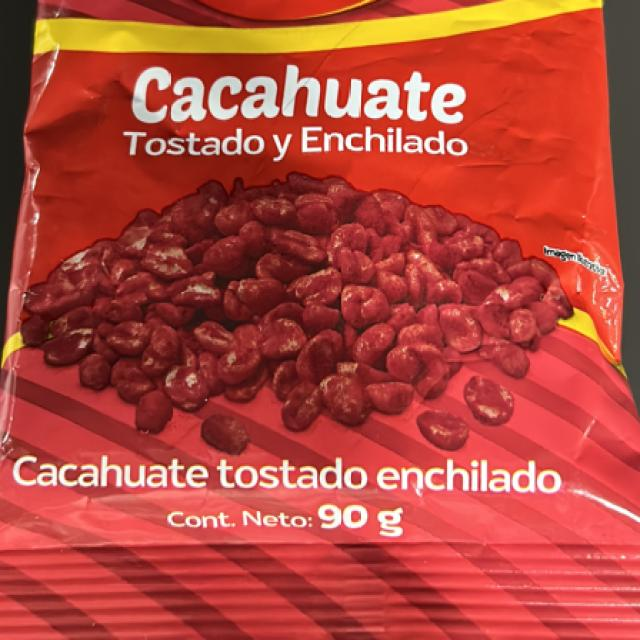bitzEnchilado90: (11, 0, 604, 640)
